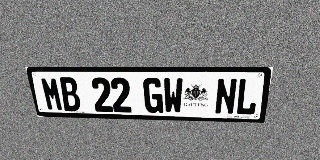2: (91, 77, 113, 112), (110, 77, 132, 112)
B: (58, 77, 82, 111)
G: (143, 78, 163, 113)
L: (235, 78, 260, 115)
M: (40, 77, 64, 111)
N: (214, 78, 238, 115)
W: (163, 78, 183, 114)
